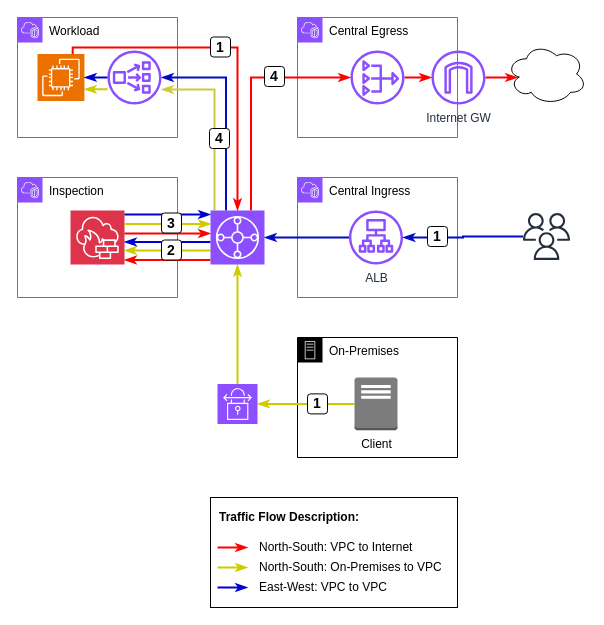
Image size: 604x625. Some labels were removed from this diagram. Each missing label, with the centre of its shape:
"EC2" belongs at point 60,77.
"Internet" belongs at point 546,73.
"NAT GW" belongs at point 377,77.
"Network Firewall" belongs at point 97,237.
"NLB" belongs at point 134,77.
"Site-to-Site VPN" belongs at point 237,403.
"Users" belongs at point 546,236.
